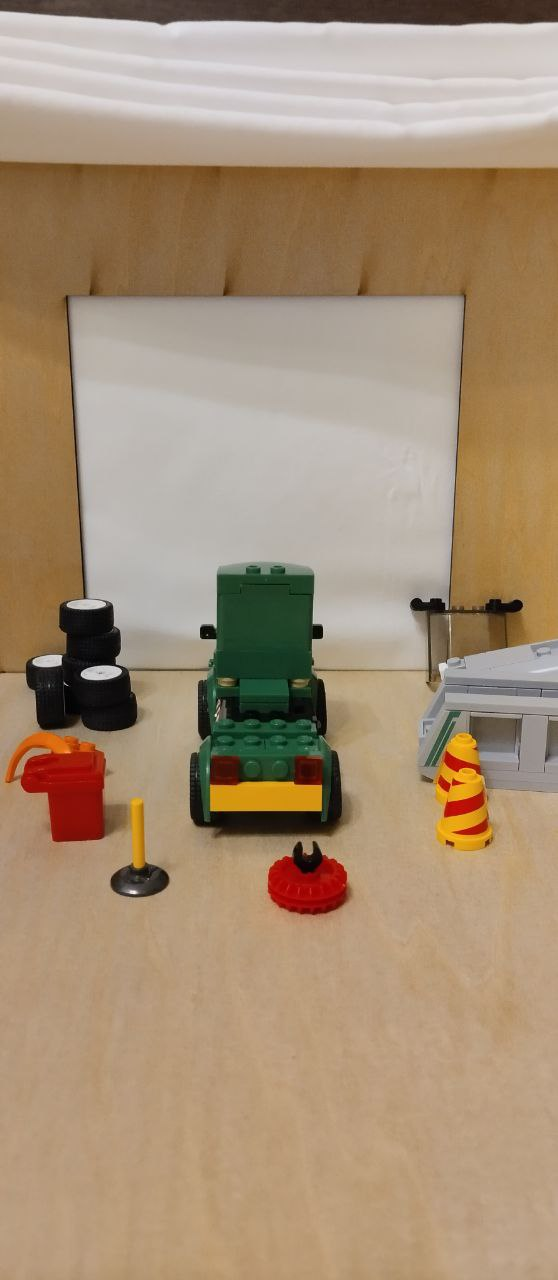Cone: (440, 767, 501, 848), (429, 731, 497, 797)
Object Red: (15, 754, 119, 850)
Truck: (175, 558, 364, 842)
